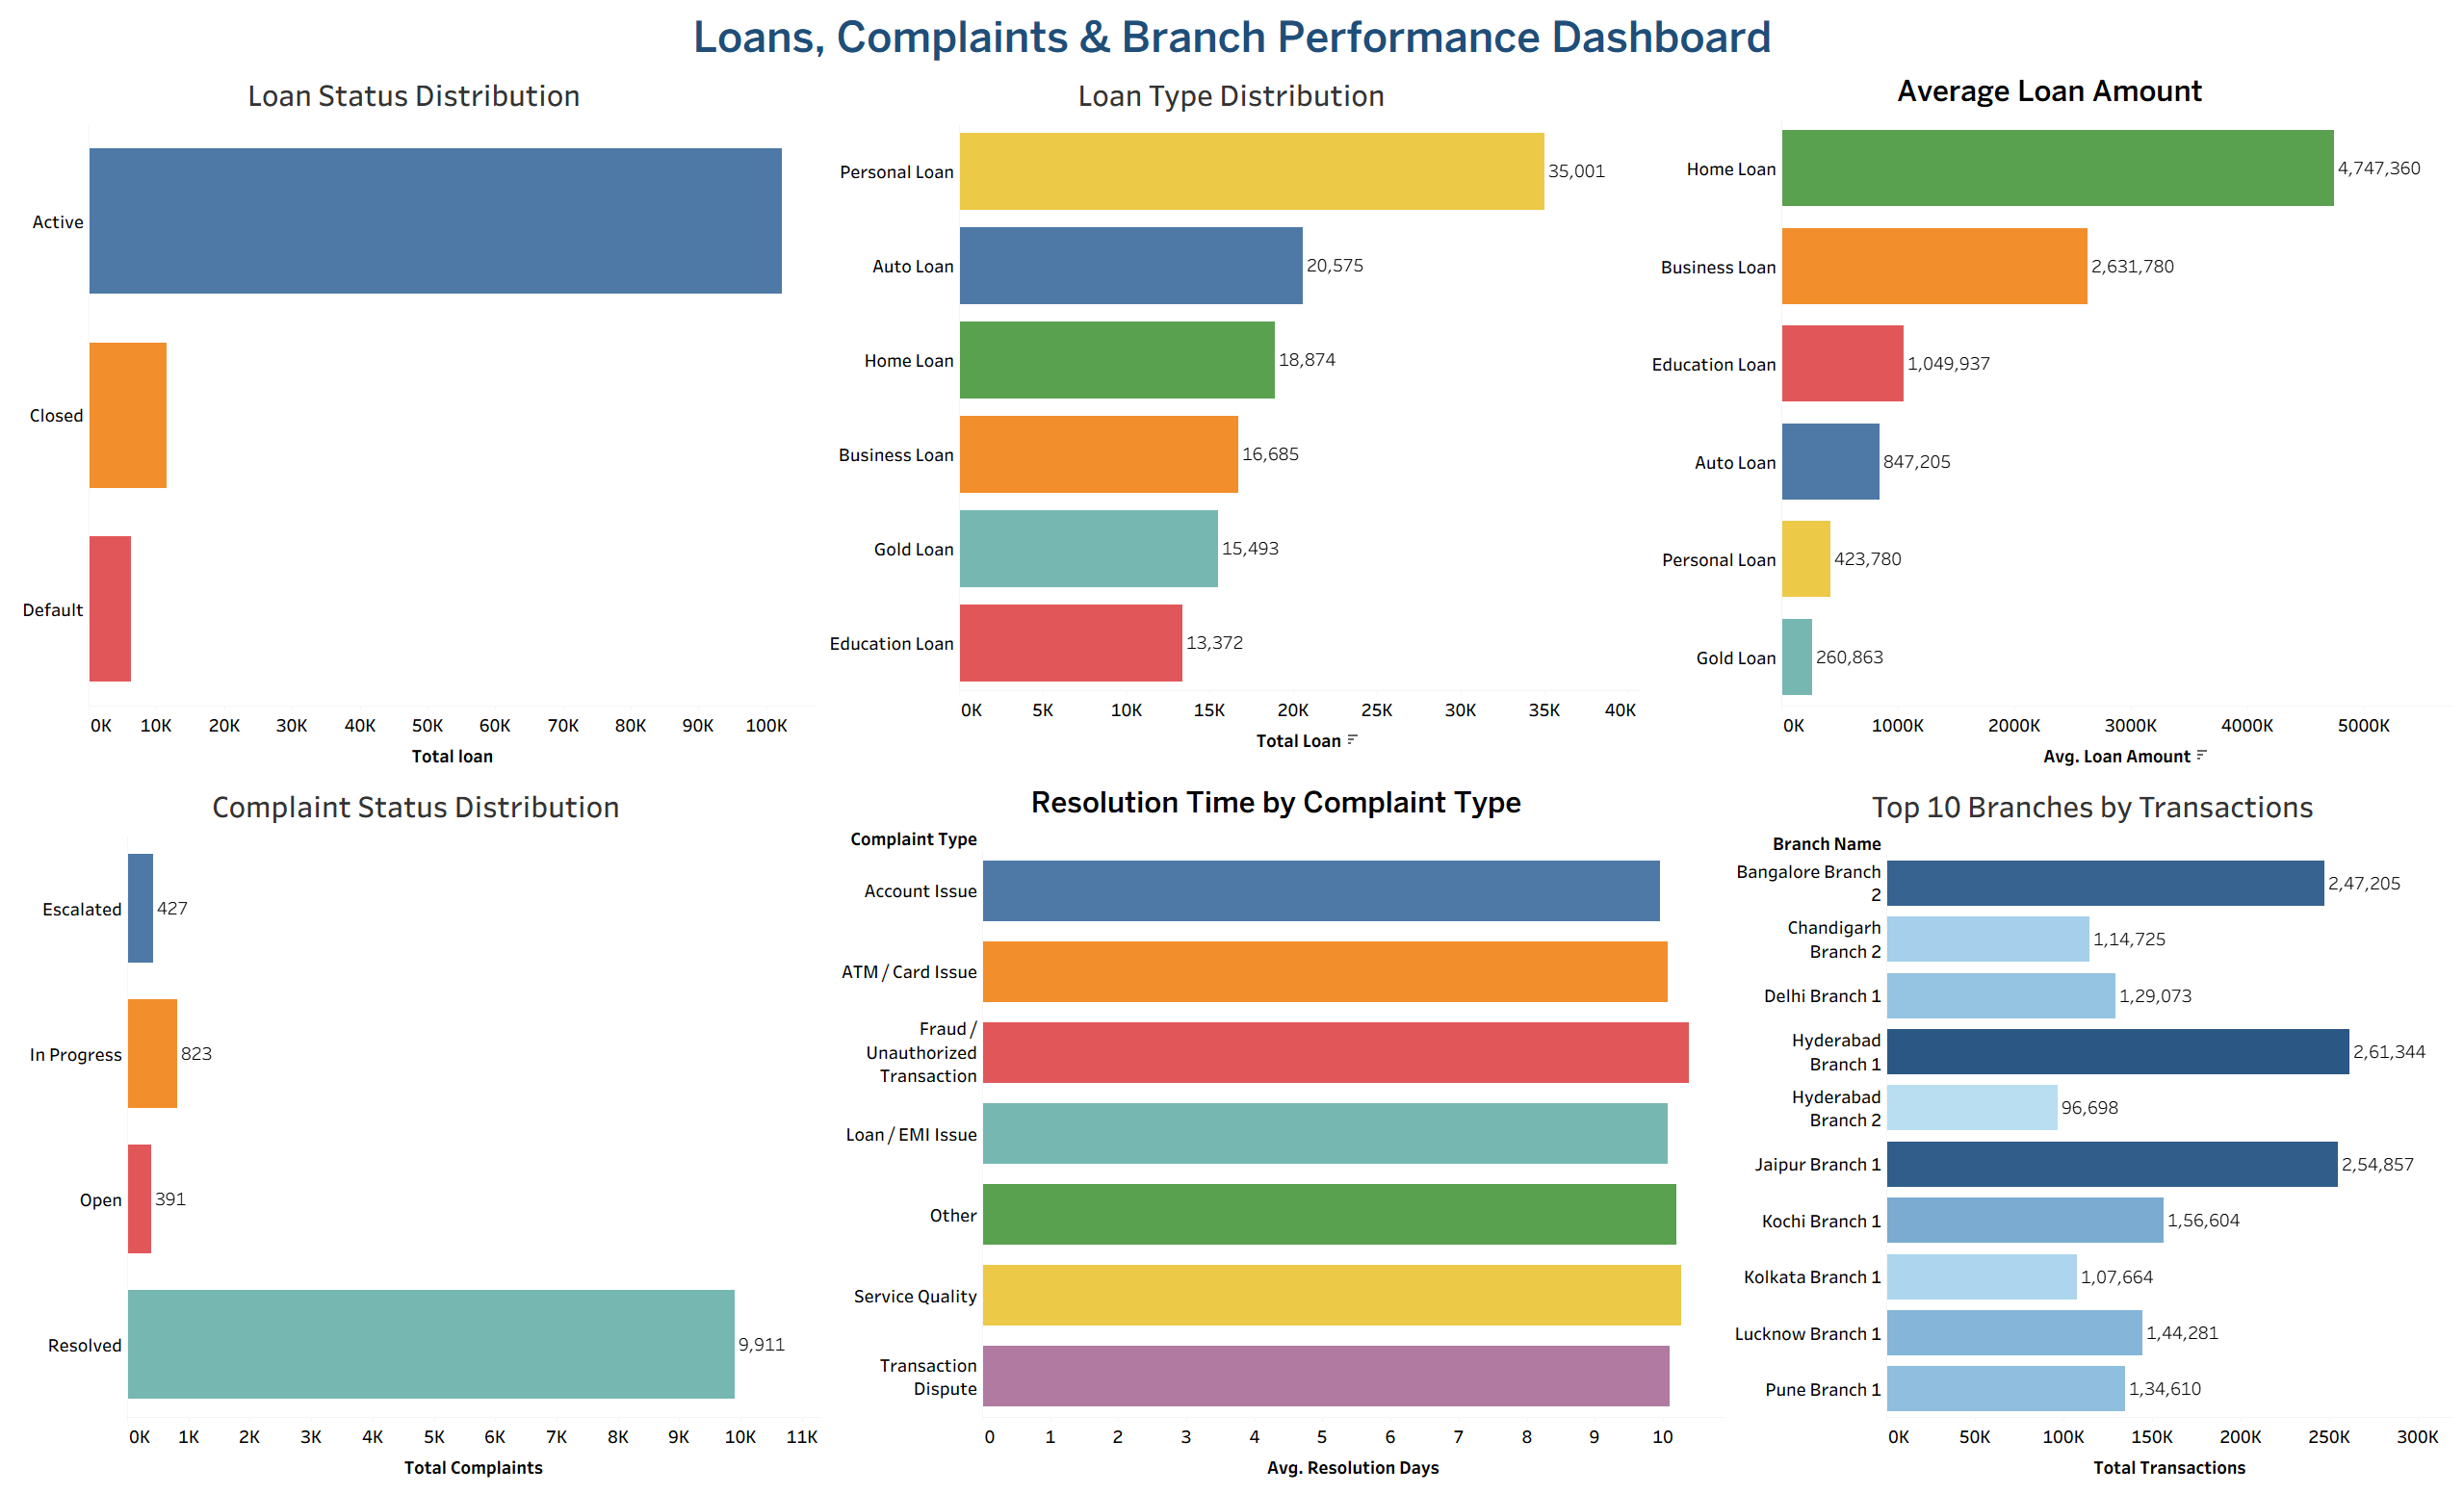

The dashboard page shown, as its layout file describes it:
{"tool":"tableau","page":{"name":"Dashboard 3","canvas":[1000,1000],"units":"permille","ordinal":2},"visuals":[{"type":"title","box":[3.6,6,992.9,46]},{"type":"worksheet","title":"Loan Status Distribution","mark":"Automatic","rows":["loan_status"],"cols":["loan_id"],"box":[3.6,52,329.4,470.9]},{"type":"worksheet","title":"Loan Type Distribution","mark":"Automatic","rows":["loan_type"],"cols":["loan_id"],"box":[332.9,52,333.5,470.9]},{"type":"worksheet","title":"Average Loan Amount by Loan Type","mark":"Automatic","rows":["loan_type"],"cols":["loan_amount"],"box":[666.4,52,330,470.9]},{"type":"worksheet","title":"Complaint Status Distribution","mark":"Automatic","rows":["status (fact_complaints.csv)"],"cols":["complaint_id"],"box":[3.6,523,330.9,471]},{"type":"worksheet","title":"Average Resolution Time by Complaint Type","mark":"Automatic","rows":["complaint_type"],"cols":["resolution_days"],"box":[334.5,523,366.4,471]},{"type":"worksheet","title":"Top 10 Branches by Transactions","mark":"Automatic","rows":["branch_name"],"cols":["transaction_id"],"box":[700.9,523,295.5,471]}]}

Visuals, with their boxes on the dashboard's canvas, which has no fixed pixel size, in thousandths of its width and height (x1, y1, x2, y2). These are canvas units, not pixel positions in the 2464x1493 screenshot, which may show the page scaled, cropped or inside an application window:
title: rect(4, 6, 996, 52)
"Loan Status Distribution" worksheet: rect(4, 52, 333, 523)
"Loan Type Distribution" worksheet: rect(333, 52, 666, 523)
"Average Loan Amount by Loan Type" worksheet: rect(666, 52, 996, 523)
"Complaint Status Distribution" worksheet: rect(4, 523, 334, 994)
"Average Resolution Time by Complaint Type" worksheet: rect(334, 523, 701, 994)
"Top 10 Branches by Transactions" worksheet: rect(701, 523, 996, 994)
